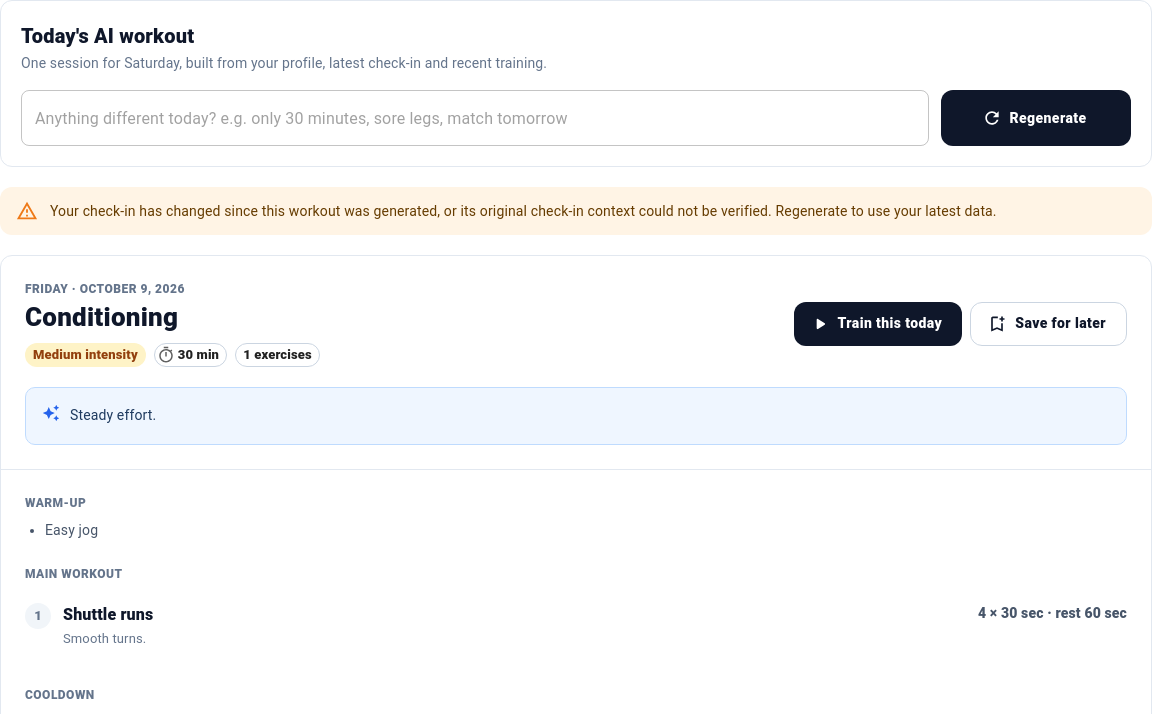
Test case: reports a failed save and leaves the save button available for retry
This screenshot has width=1152, height=714.
Click the button "Save for later" at point(1049, 324), box [970,302,1127,346]
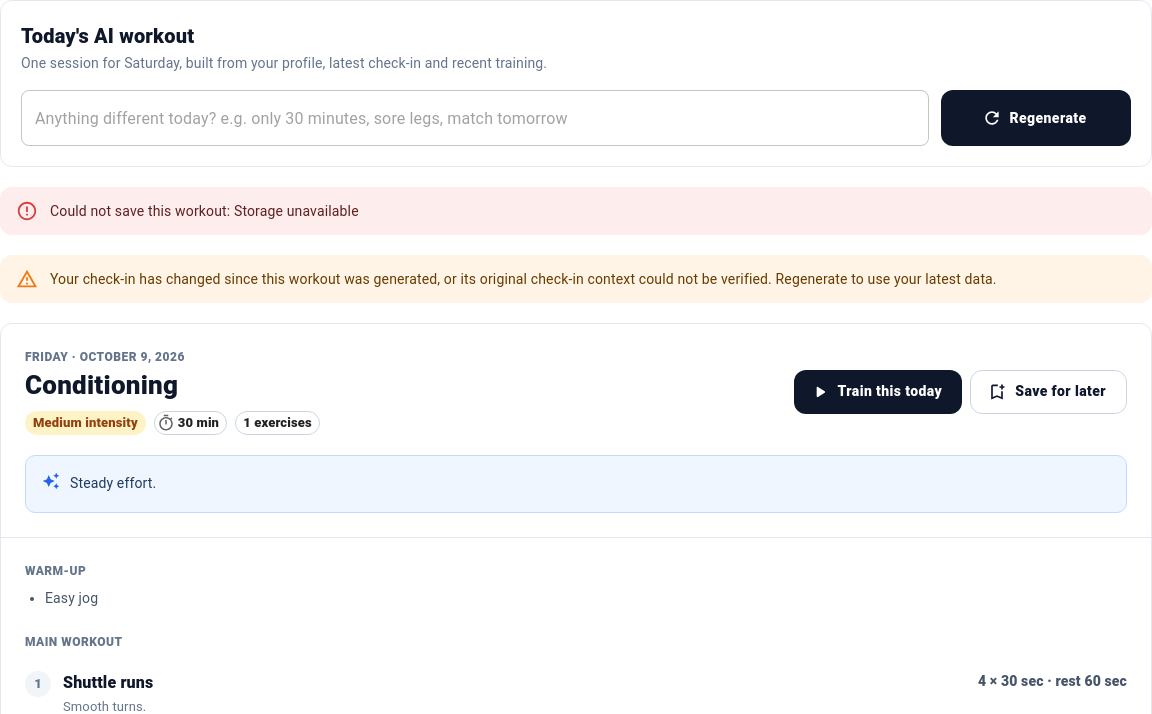
Expected: the button "Save for later" is enabled, [970,370,1127,414]
Now the text "Could not save this workout" is shown, box [50,203,359,219]
